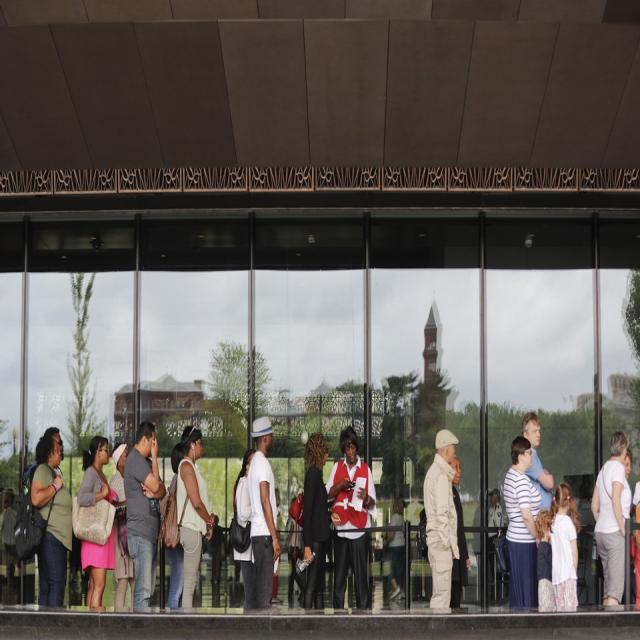body: (12, 433, 75, 609), (160, 423, 217, 610), (324, 425, 377, 612), (122, 420, 169, 614), (77, 434, 127, 608), (295, 430, 342, 611), (589, 428, 633, 607), (502, 434, 544, 614), (589, 442, 633, 606), (422, 427, 461, 610), (246, 414, 281, 612), (107, 441, 135, 615), (229, 446, 257, 614), (196, 510, 245, 606), (271, 471, 305, 609), (547, 481, 581, 613), (444, 454, 472, 610), (0, 481, 30, 605), (163, 442, 185, 610), (520, 411, 555, 514), (469, 488, 494, 614), (380, 495, 407, 601), (583, 454, 598, 606), (534, 509, 556, 608), (487, 487, 503, 602), (404, 484, 428, 560), (372, 503, 389, 610), (64, 534, 89, 606), (630, 440, 639, 614), (42, 425, 64, 480)
